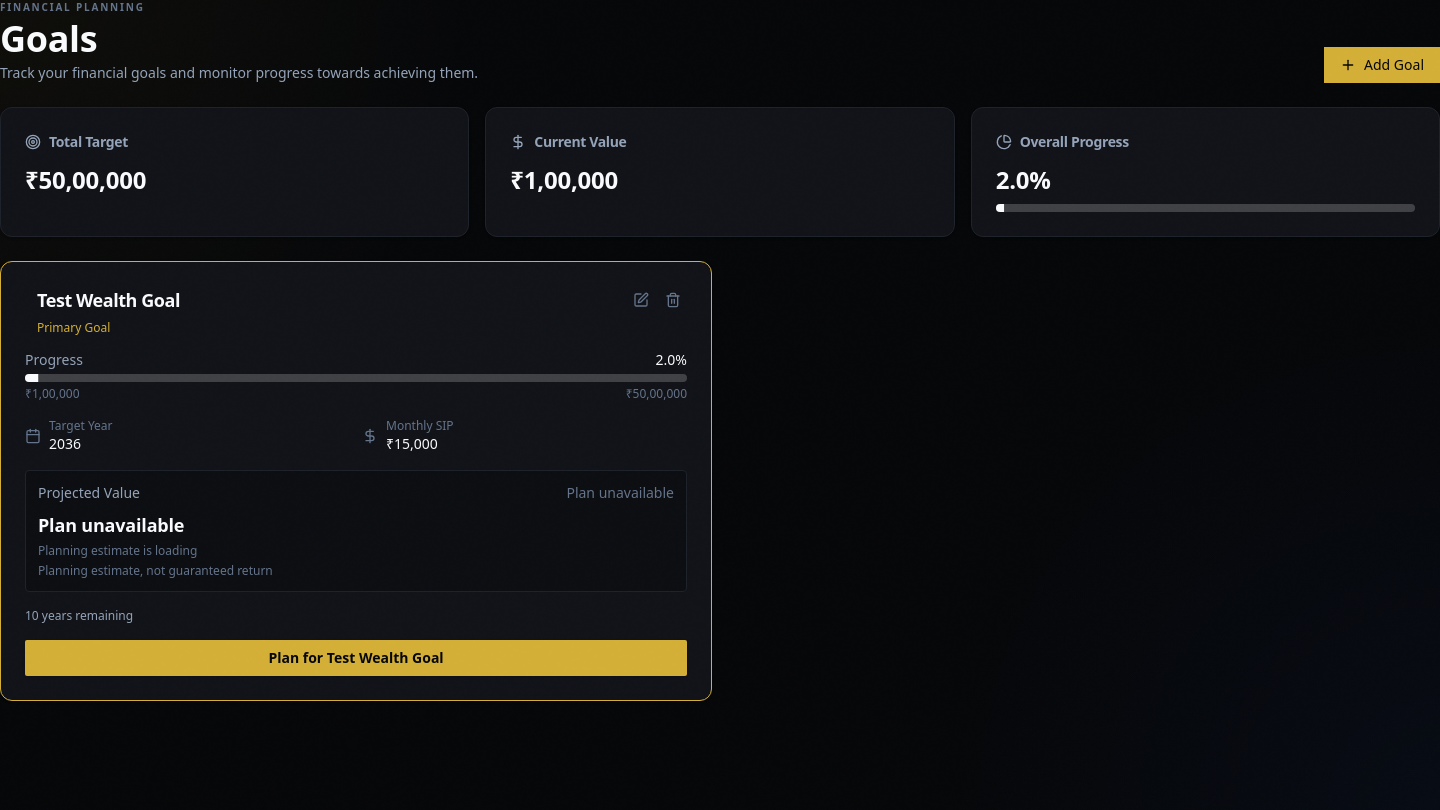
Goals page — Load Eligible Stocks › a network/HTTP failure shows a precise error and clears only the stock bucket, never the fund buckets
Click the button "Plan for Test Wealth Goal": (356, 658) [25,640,687,676]
(page scrolled)
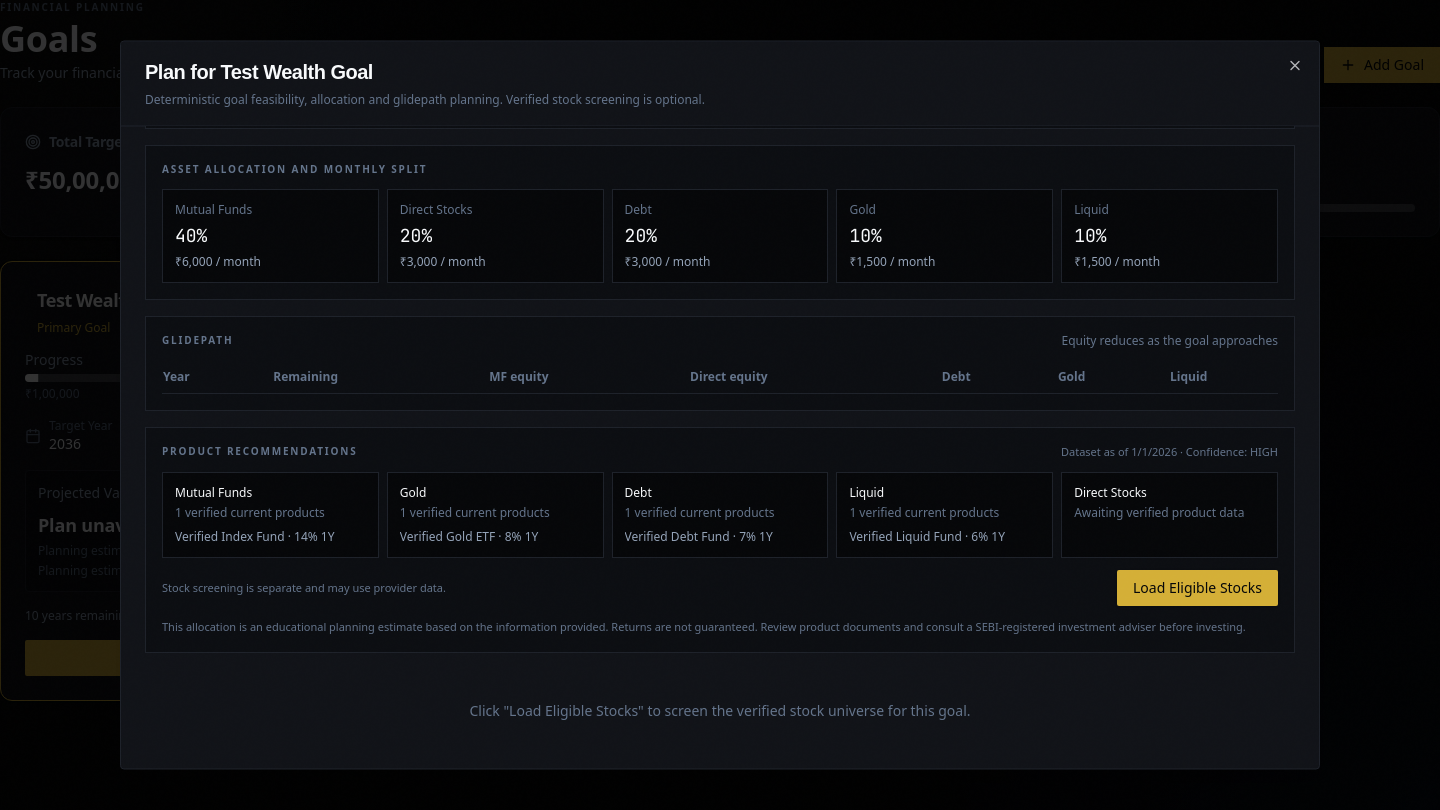
expect the button "Load Eligible Stocks" is shown: met
Click the button "Load Eligible Stocks": (1198, 588) [1117,570,1278,606]
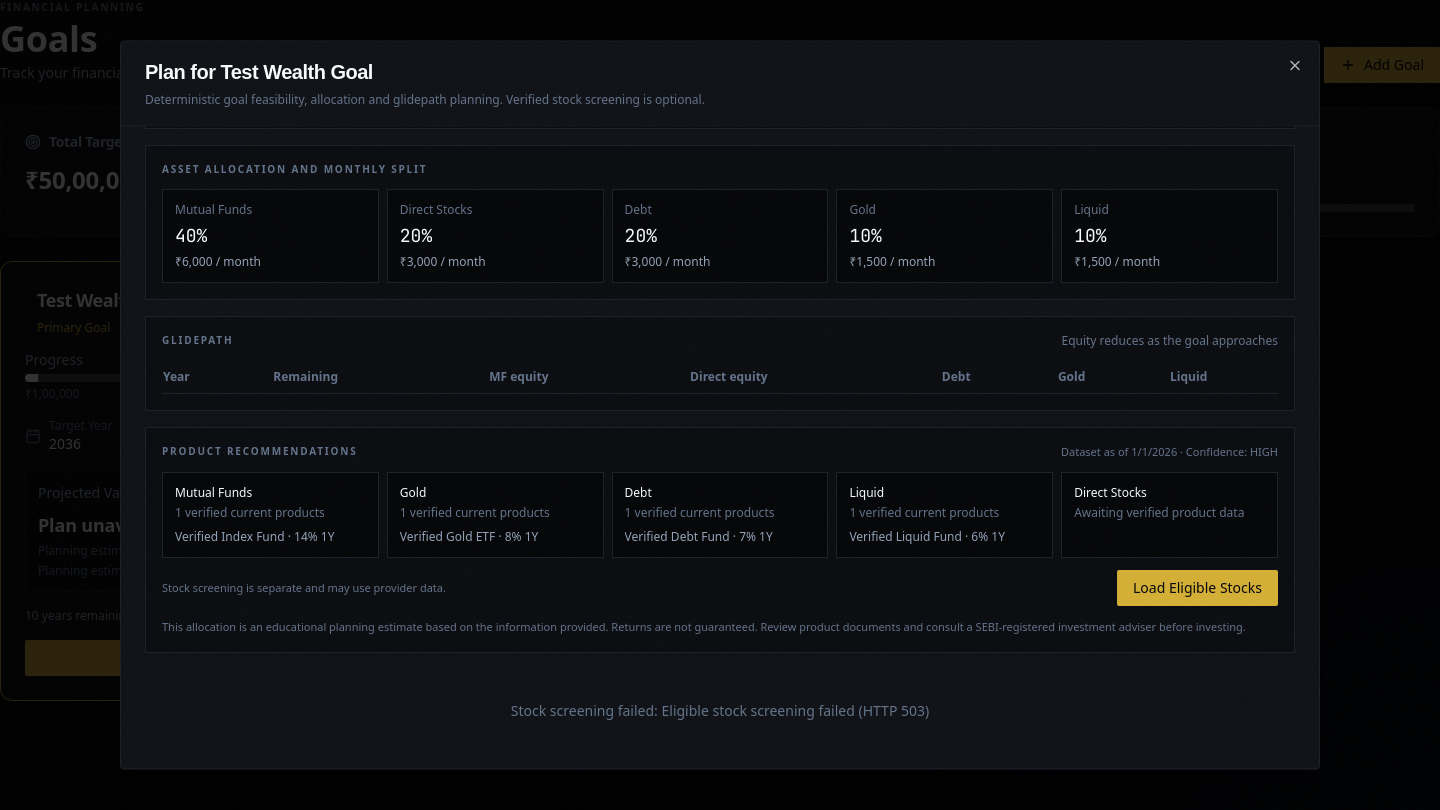
expect the button "Load Eligible Stocks" is enabled: met, box [1117,570,1278,606]
expect the list item "Verified Index Fund · 14% 1Y" is shown: met, box [175,528,334,546]
expect the text "Stock screening failed" is shown: met, box [511,701,929,720]
